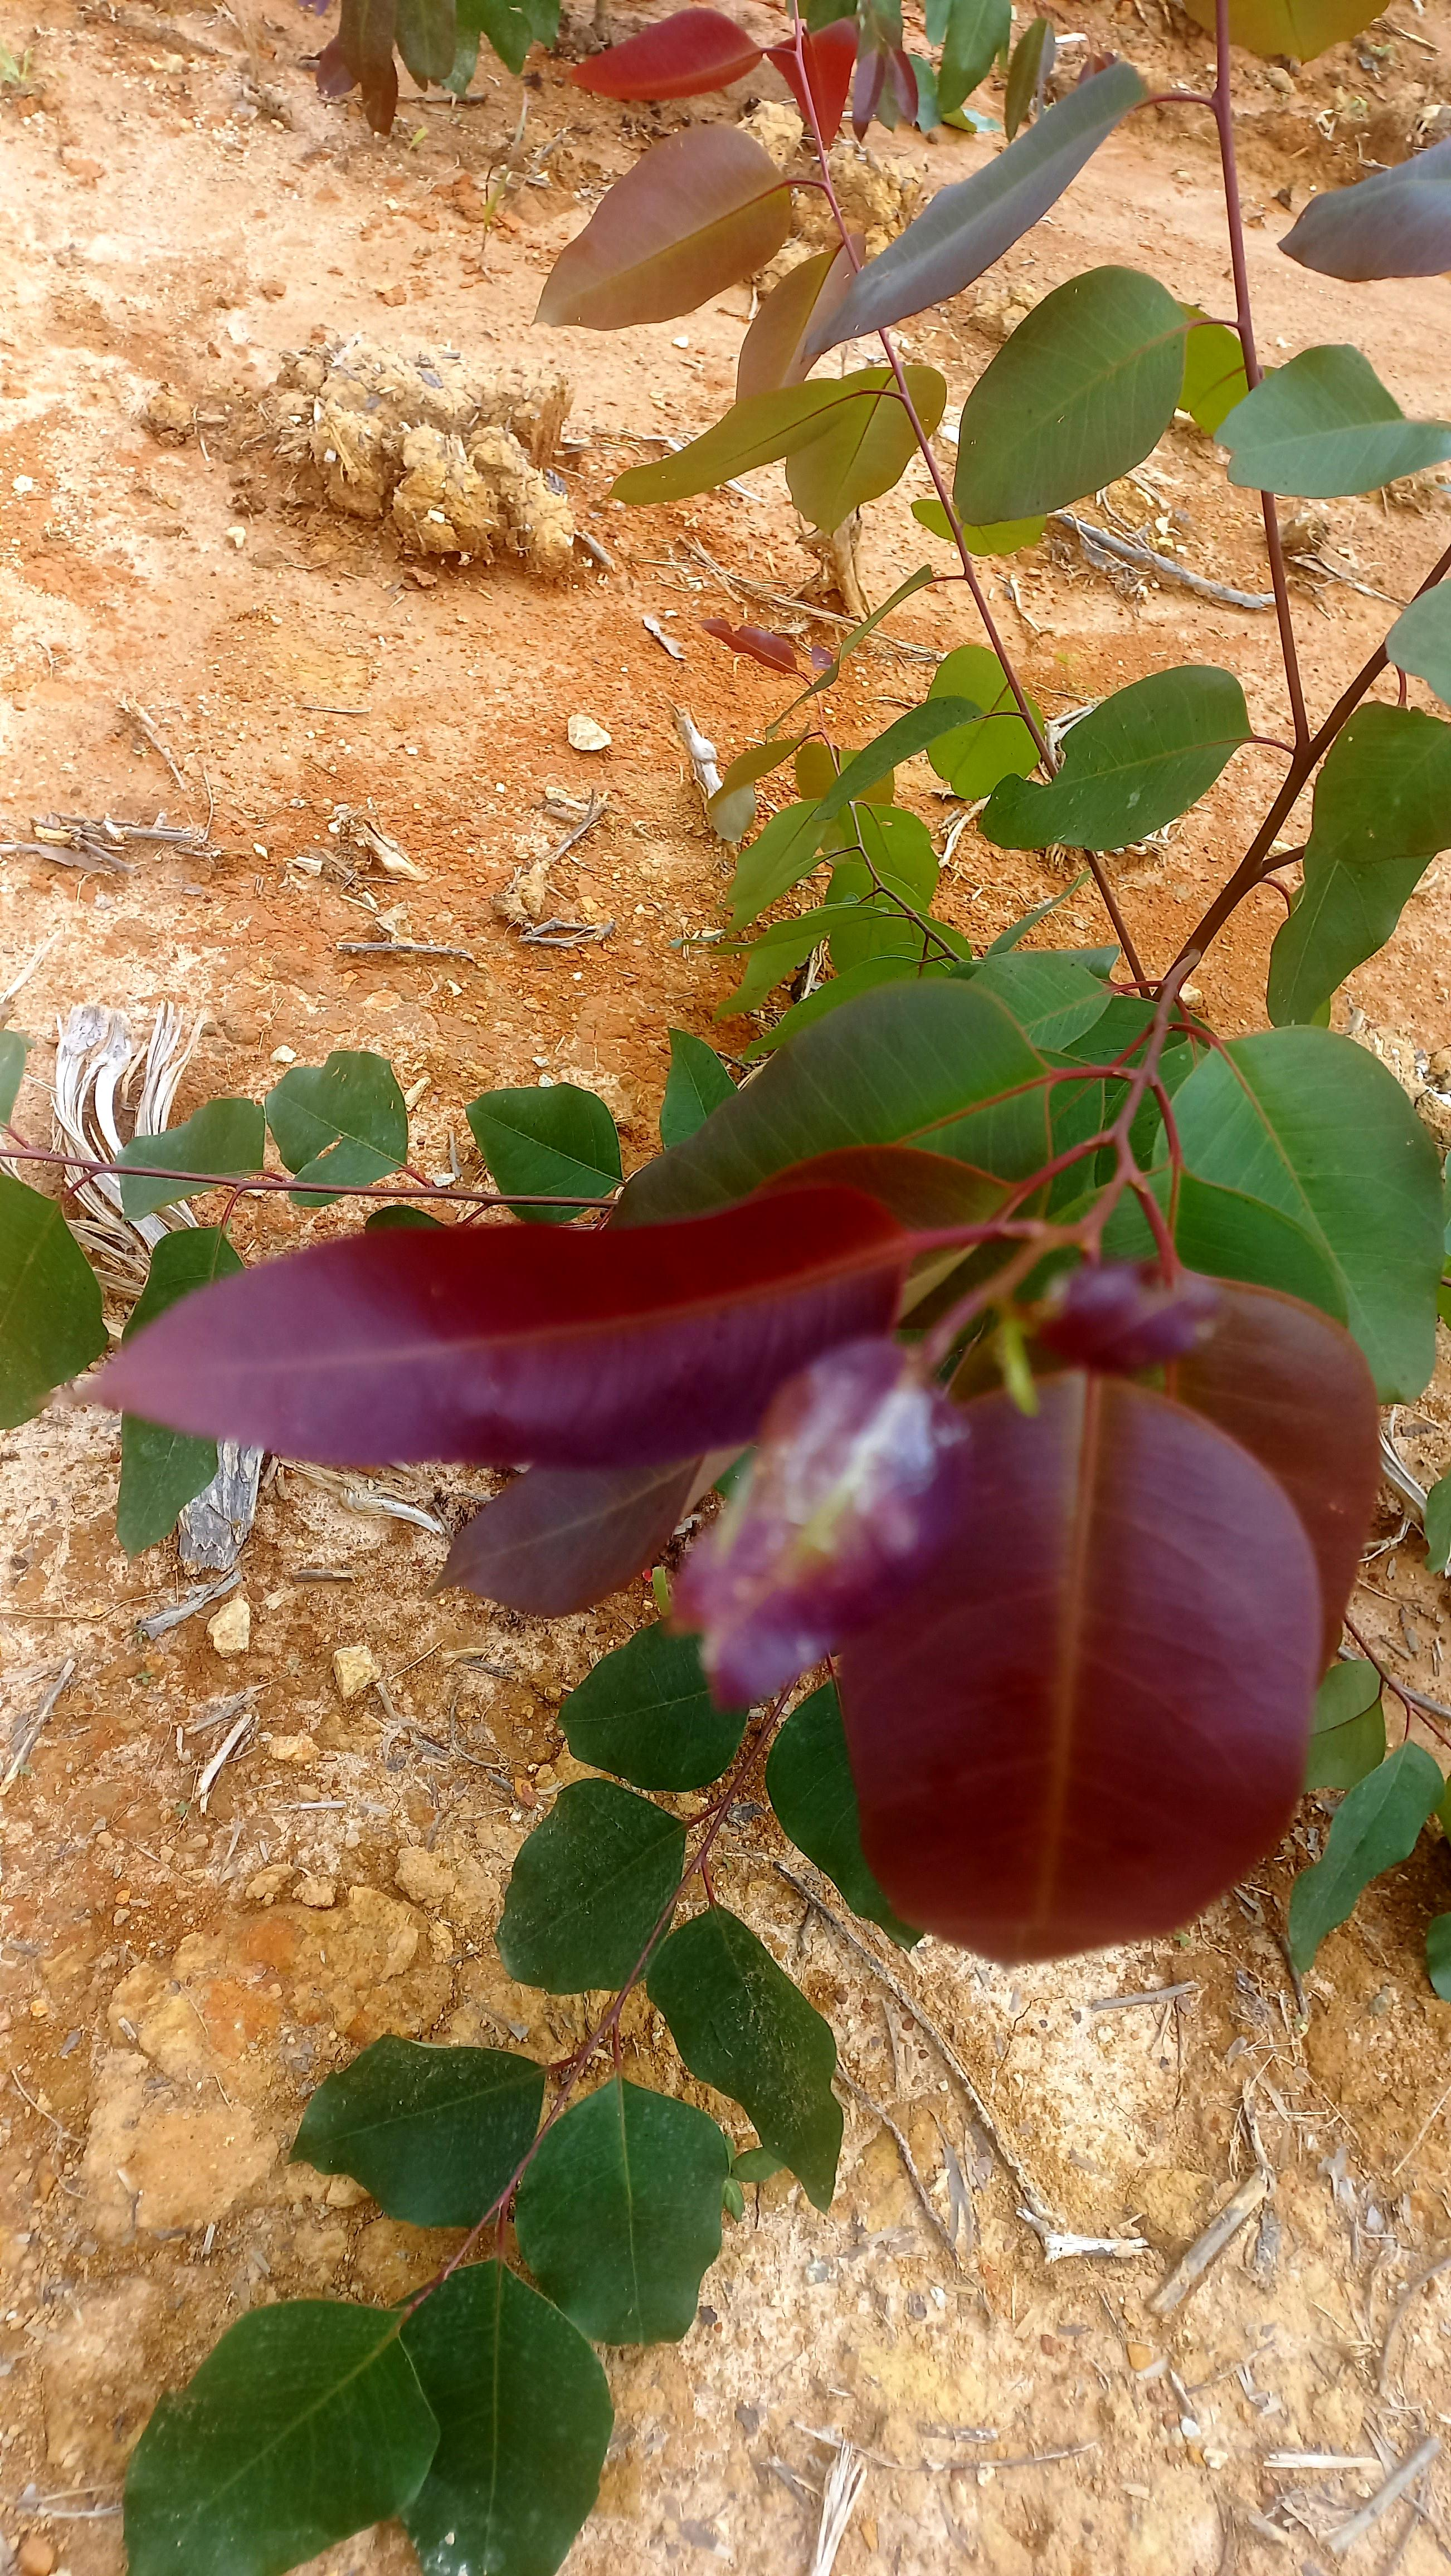Leaf Roller - Leaf: (702, 1329, 979, 1713), (1023, 1258, 1233, 1368)
